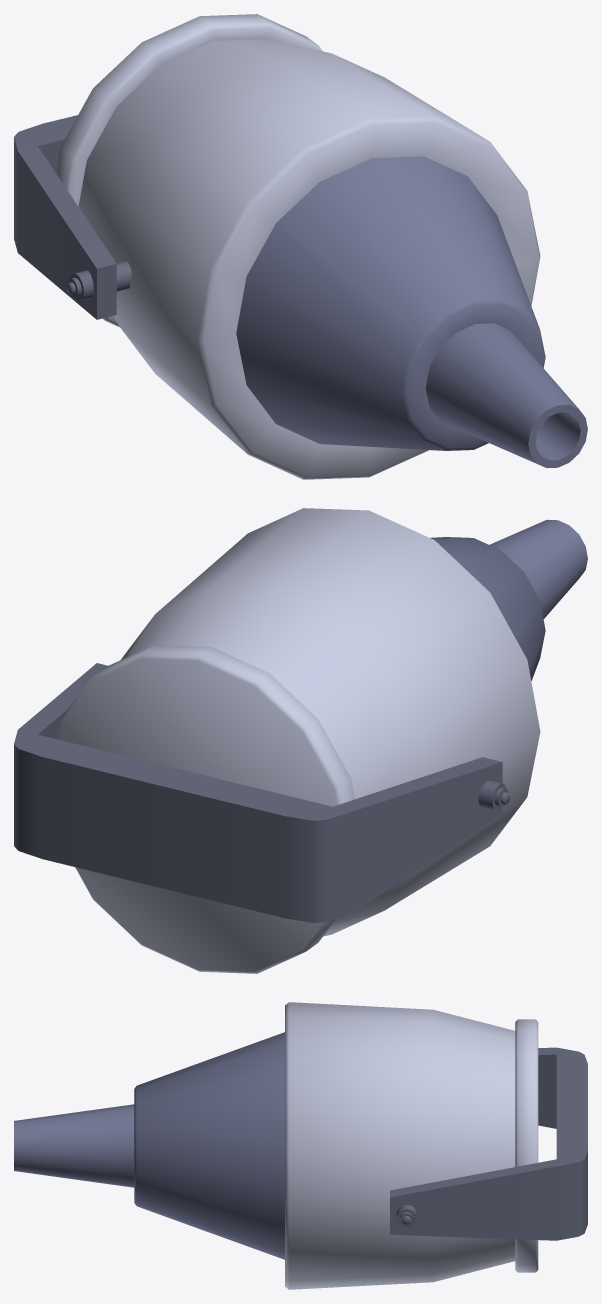
File: Dulo3.fbx
3 views of the same model, one above another, from view 1: azimuth 30°, elevation 25°; view 2: azimuth 150°, elevation 25°; view 3: azimuth 270°, elevation 25° (orthographic). The views are drawn at different scales.
Parts seen in each view (by area): view 1: Dulo4; view 2: Dulo4; view 3: Dulo4.
Boxes of the visible parts, bbox=[...] form: Dulo4: bbox=[14, 14, 587, 479]; Dulo4: bbox=[14, 508, 587, 973]; Dulo4: bbox=[14, 1002, 587, 1289].
Size of the model in its own units: 116 by 180 by 90.3.
